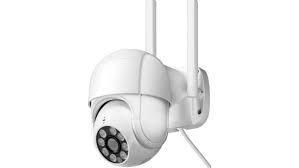maru: (84, 43, 175, 166)
